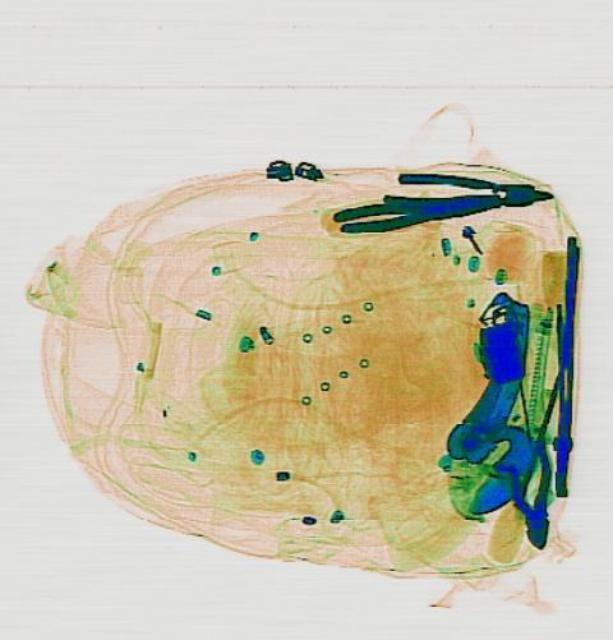Pliers: (331, 182, 500, 238), (487, 438, 565, 556)
